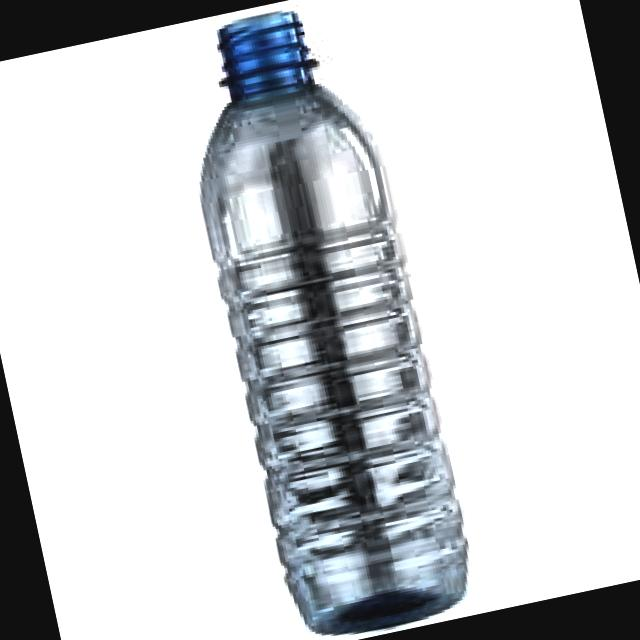plastic bottle: (202, 18, 466, 630)
